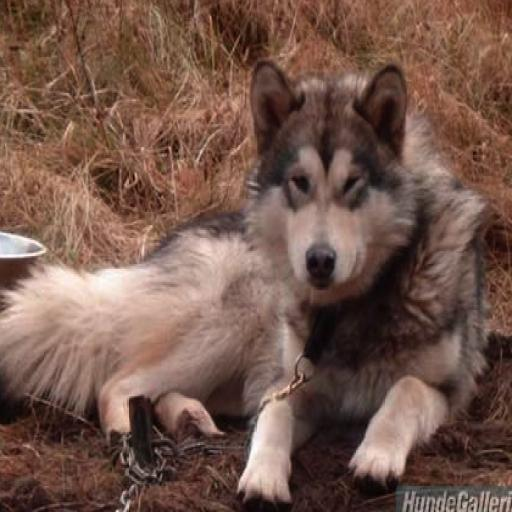dog_face: (247, 56, 403, 282)
